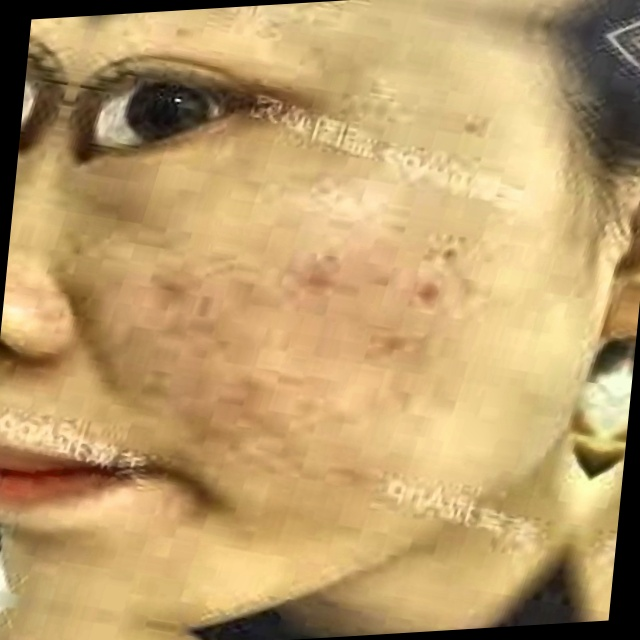comedone: (135, 258, 211, 317), (295, 250, 350, 310), (396, 278, 460, 318)
